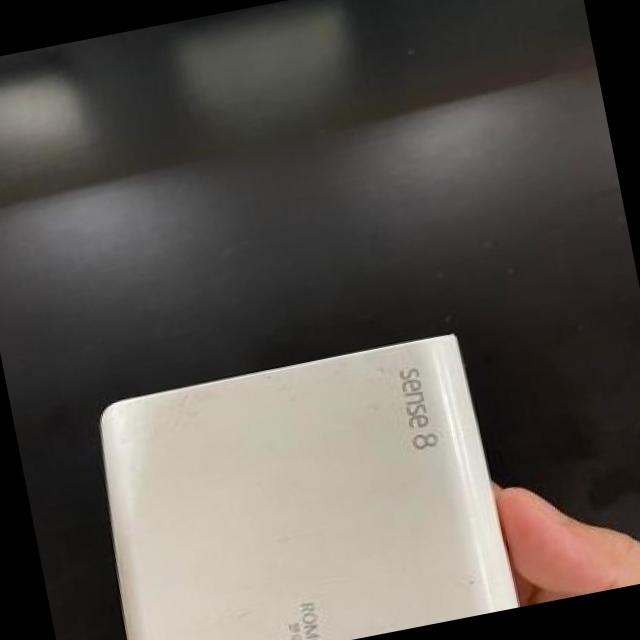power_bank: (69, 318, 540, 640)
